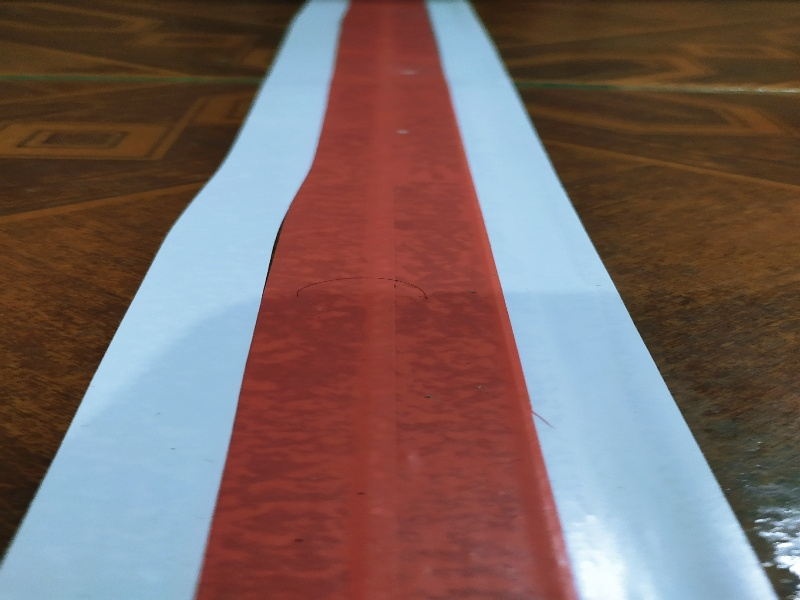reta: (2, 5, 800, 595)
